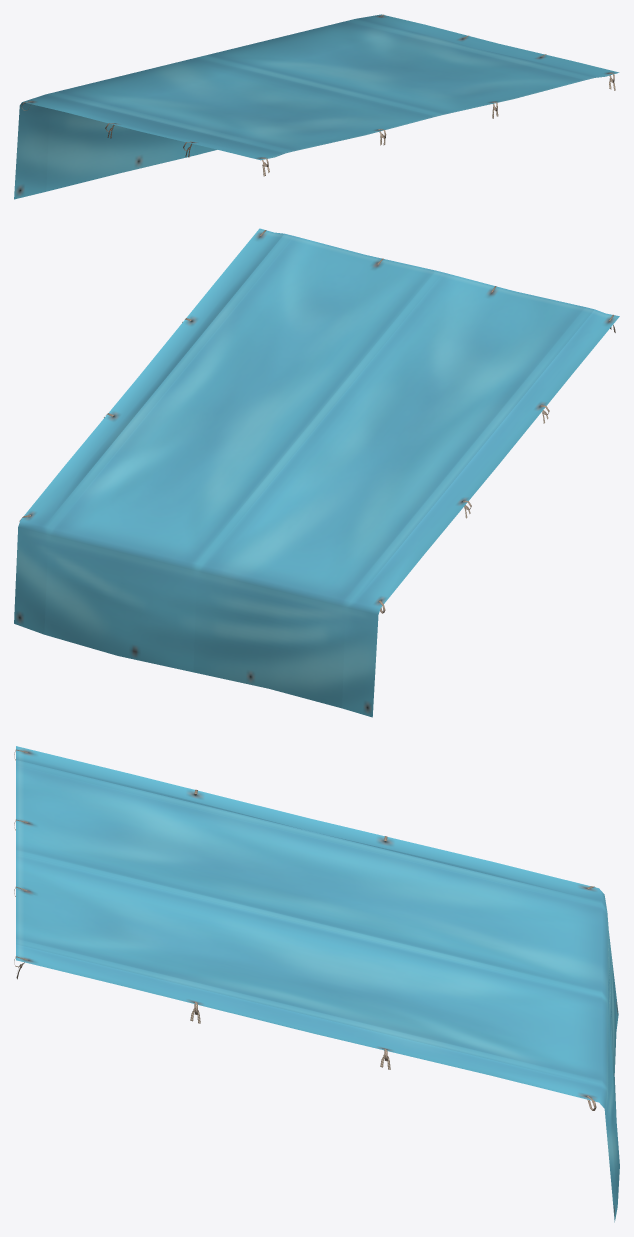
File: jsf_Ceiling_s01_c03_t01.fbx
The picture shows the model from 3 angles, top to bottom: view 1: azimuth 30°, elevation 25°; view 2: azimuth 150°, elevation 25°; view 3: azimuth 270°, elevation 25°; orthographic projection. The views are drawn at different scales.
Visible parts, largest first — view 1: jsf_Ceiling_s01_c03_t01; view 2: jsf_Ceiling_s01_c03_t01; view 3: jsf_Ceiling_s01_c03_t01.
Part boxes in pixels (box(x1,y1,x2,y2)): jsf_Ceiling_s01_c03_t01: box(14, 14, 619, 199); jsf_Ceiling_s01_c03_t01: box(14, 228, 619, 717); jsf_Ceiling_s01_c03_t01: box(14, 746, 619, 1222).
Bounding box in the file's own units: 184 × 106 × 216.
